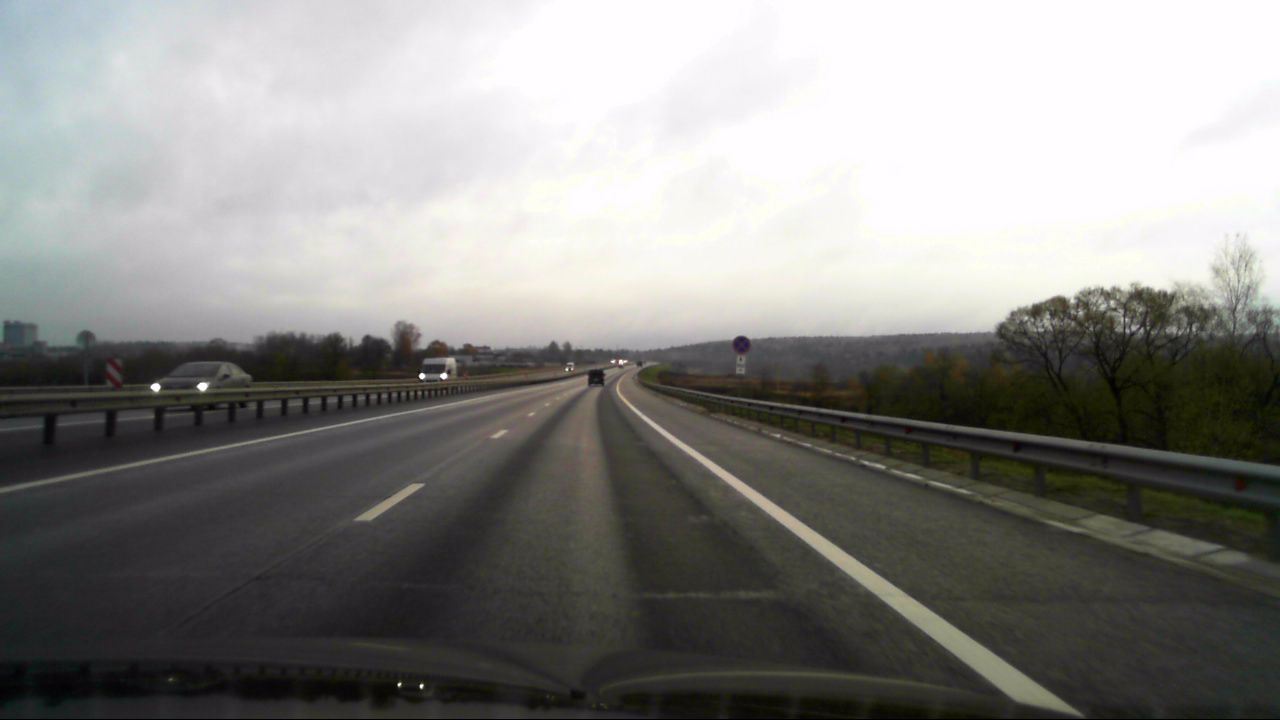No Parking: (732, 335, 749, 353)
